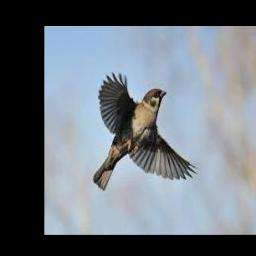Sparrow: (94, 71, 198, 191)
